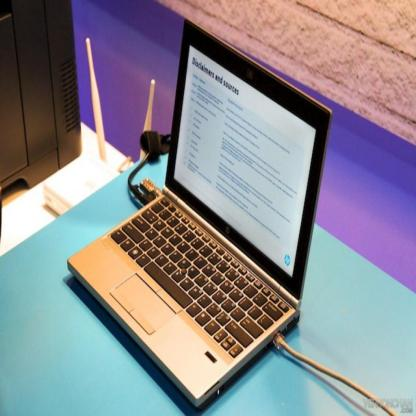board: (59, 36, 333, 416)
